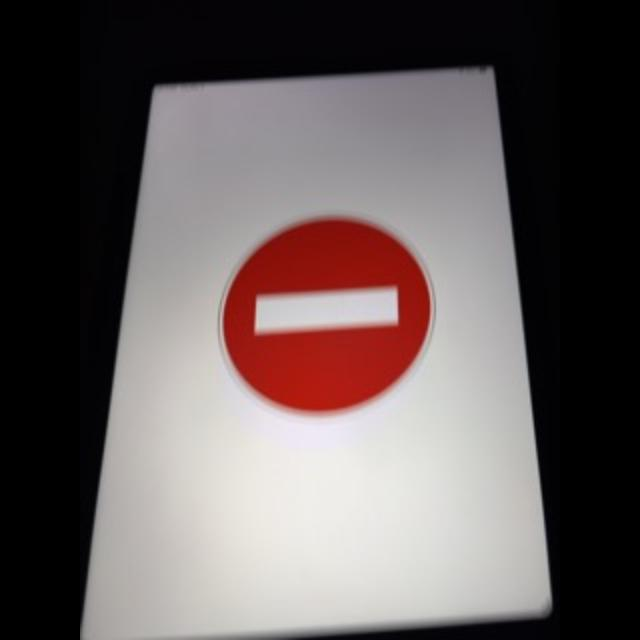NO ENTRY: (212, 212, 440, 418)
